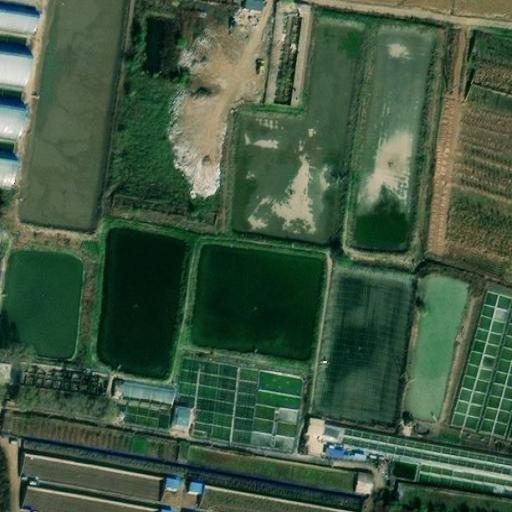building: (14, 445, 166, 502), (110, 377, 173, 402), (0, 46, 38, 86), (0, 2, 43, 33), (0, 103, 31, 140), (0, 149, 24, 184), (354, 472, 376, 498), (169, 407, 193, 430), (163, 477, 179, 493), (188, 483, 206, 495), (159, 508, 174, 512)
